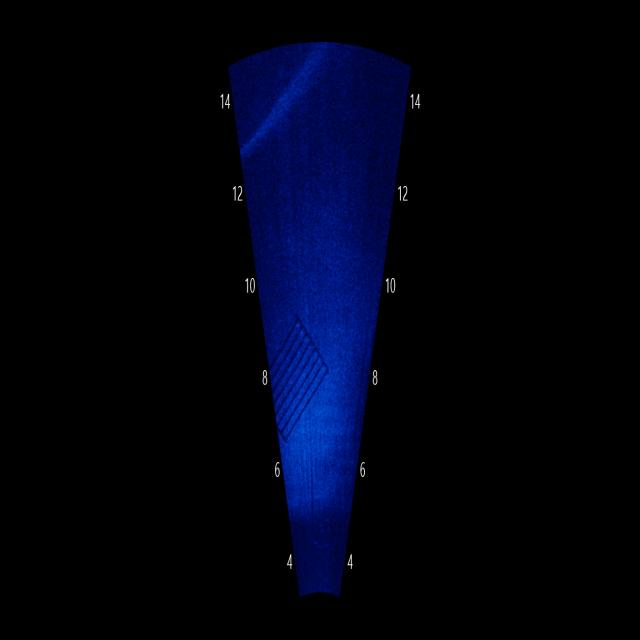square: (268, 310, 330, 439)
